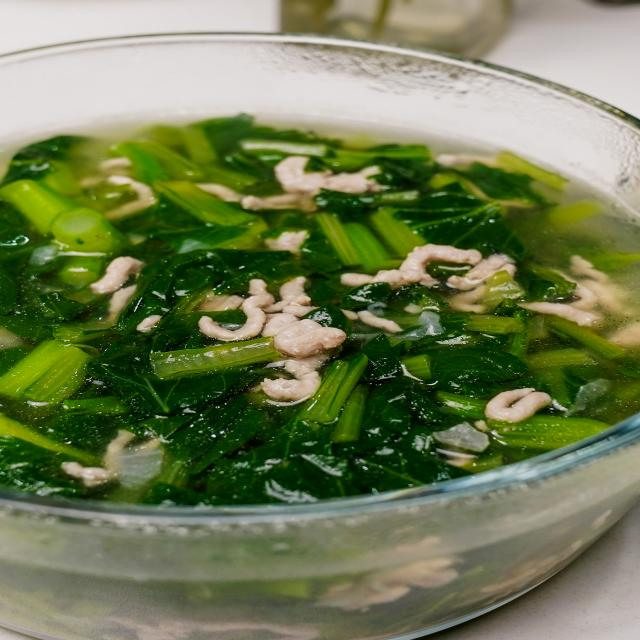canh cai: (0, 115, 640, 525)
